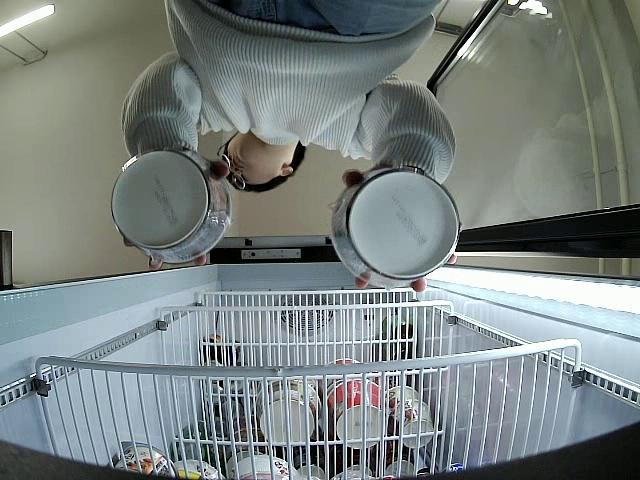00_hand: (351, 250, 466, 292)
07_buldak_L: (331, 169, 460, 289), (111, 150, 231, 263)
